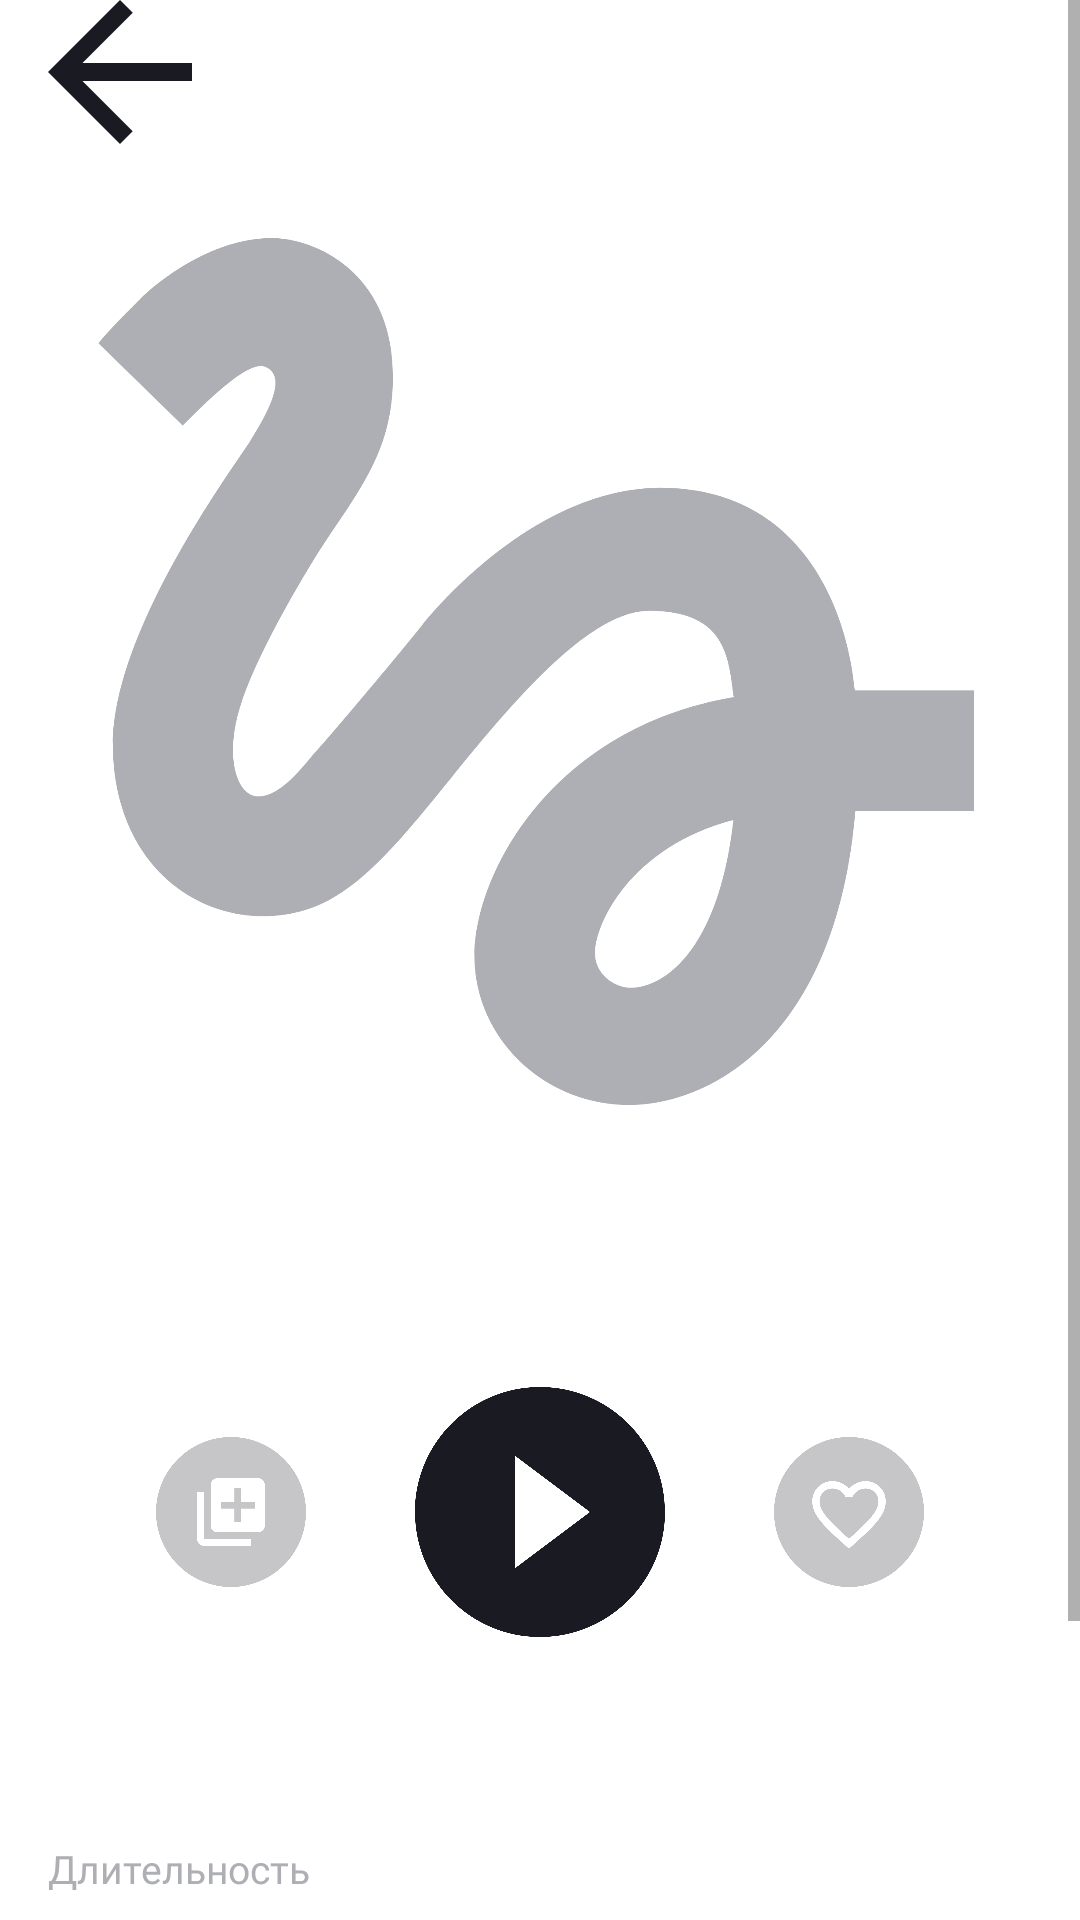

Icons on this 1080*1920 Android screen, each with its box as (x1, y1, x2, y2):
Воспроизвести песню: (415, 1387, 665, 1637)
Добавить в мне нравится: (774, 1437, 924, 1587)
Добавить в плейлист: (156, 1437, 306, 1587)
Стрелка назад: (48, 0, 192, 144)
